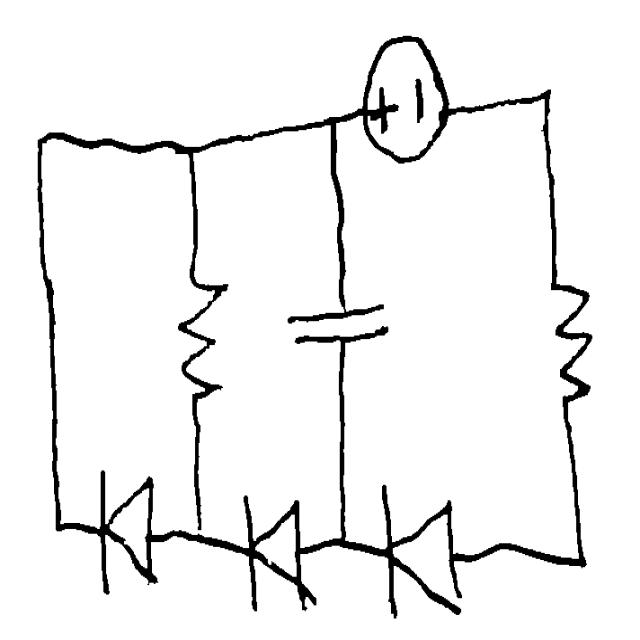capacitor: (282, 284, 396, 365)
dc: (351, 26, 461, 171)
diode: (368, 471, 469, 627), (228, 480, 320, 621), (84, 461, 170, 603), (529, 259, 603, 420)
resistor: (164, 252, 237, 422)
